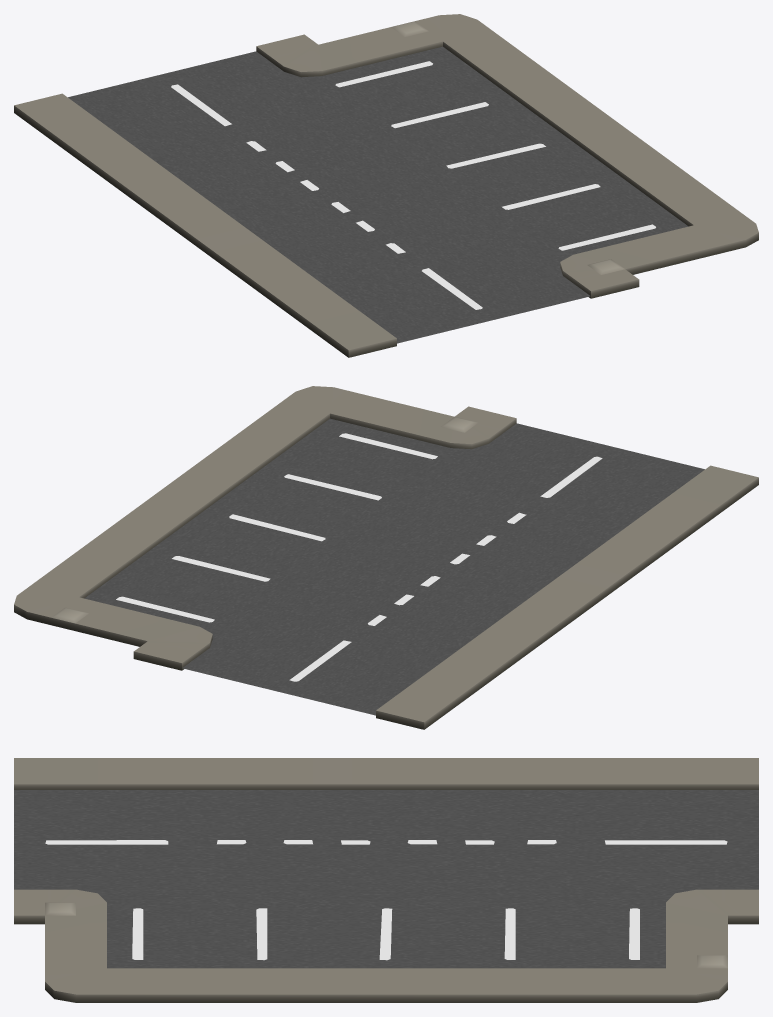
Rendered from Road16.fbx.
3 renders of one model, top to bottom at view 1: azimuth 30°, elevation 25°; view 2: azimuth 150°, elevation 25°; view 3: azimuth 270°, elevation 25°, orthographic. The views are drawn at different scales.
Parts seen in each view (by area): view 1: Road_1J; view 2: Road_1J; view 3: Road_1J.
Part boxes in pixels (<box>): Road_1J: <box>14,14,758,357</box>; Road_1J: <box>14,386,758,729</box>; Road_1J: <box>14,758,758,1002</box>.
Size of the model in its own units: 33583 by 664 by 44709.
